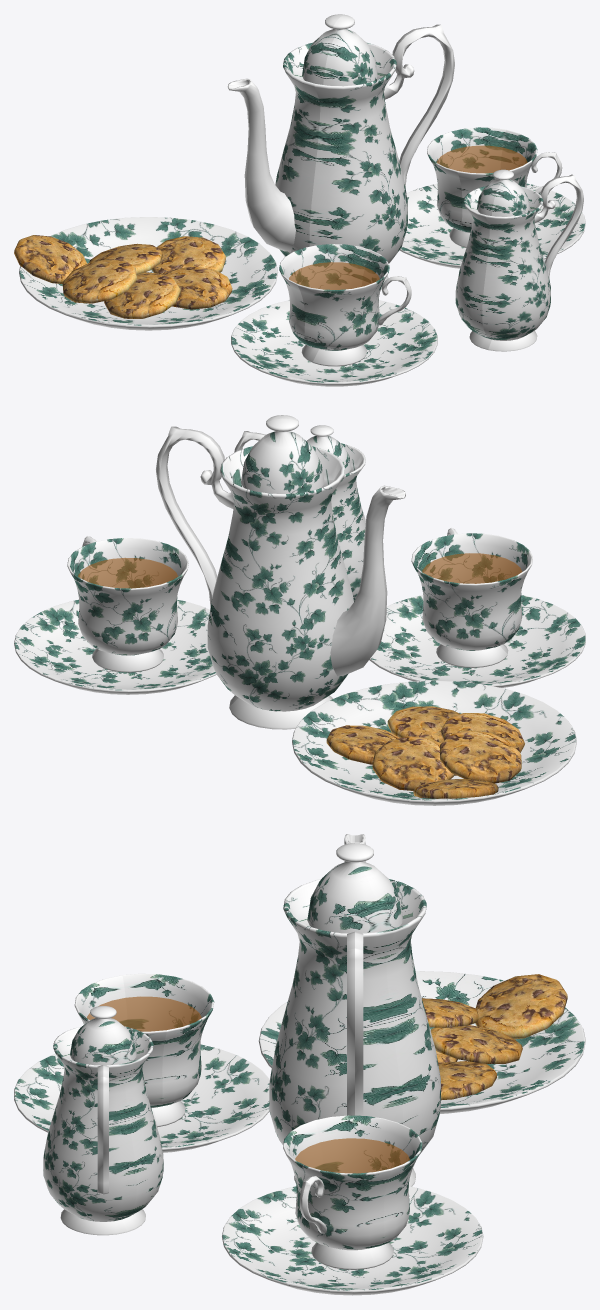
Rendered from tea_set.obj.
3 views of the same model, one above another, from view 1: azimuth 30°, elevation 25°; view 2: azimuth 150°, elevation 25°; view 3: azimuth 270°, elevation 25° (orthographic). The views are drawn at different scales.
Parts seen in each view (by area): view 1: Mesh48 Component_6_1 Component_9_1 tea_pot_06_1 tea_set_06_1 Mod, Mesh101 Group7 tea_cookie_06_1 tea_set_06_1 Model, Mesh3 Group3 tea_cup_06_1 tea_set_06_1 Model, Mesh97 Component_6_3 Component_9_2 tea_creamer_06_1 tea_set_06_1, Mesh41 Component_5_1 Component_8_1 tea_cup_06_1 tea_set_06_1 Mod, Mesh50 Component_6_2 Component_9_1 tea_pot_06_1 tea_set_06_1 Mod, Mesh54 Group6 tea_cup_06_2 tea_set_06_1 Model, Mesh93 Component_5_4 Component_8_2 tea_cup_06_2 tea_set_06_1 Mod, Mesh44 Component_7_1 tea_pot_06_1 tea_set_06_1 Model, Mesh42 Component_5_2 Component_8_1 tea_cup_06_1 tea_set_06_1 Mod, Mesh99 Component_6_4 Component_9_2 tea_creamer_06_1 tea_set_06_1, Mesh49 Component_1_1 Component_9_1 tea_pot_06_1 tea_set_06_1 Mod (+18 smaller); view 2: Mesh50 Component_6_2 Component_9_1 tea_pot_06_1 tea_set_06_1 Mod, Mesh101 Group7 tea_cookie_06_1 tea_set_06_1 Model, Mesh3 Group3 tea_cup_06_1 tea_set_06_1 Model, Mesh54 Group6 tea_cup_06_2 tea_set_06_1 Model, Mesh93 Component_5_4 Component_8_2 tea_cup_06_2 tea_set_06_1 Mod, Mesh42 Component_5_2 Component_8_1 tea_cup_06_1 tea_set_06_1 Mod, Mesh46 Component_7_2 tea_pot_06_1 tea_set_06_1 Model, Mesh41 Component_5_1 Component_8_1 tea_cup_06_1 tea_set_06_1 Mod, Mesh92 Component_5_3 Component_8_2 tea_cup_06_2 tea_set_06_1 Mod, Mesh51 Component_1_2 Component_9_1 tea_pot_06_1 tea_set_06_1 Mod, Mesh142 Component_14_5 tea_cookie_06_1 tea_set_06_1 Model, Mesh139 Component_14_2 tea_cookie_06_1 tea_set_06_1 Model (+13 smaller); view 3: Mesh48 Component_6_1 Component_9_1 tea_pot_06_1 tea_set_06_1 Mod, Mesh54 Group6 tea_cup_06_2 tea_set_06_1 Model, Mesh97 Component_6_3 Component_9_2 tea_creamer_06_1 tea_set_06_1, Mesh3 Group3 tea_cup_06_1 tea_set_06_1 Model, Mesh92 Component_5_3 Component_8_2 tea_cup_06_2 tea_set_06_1 Mod, Mesh50 Component_6_2 Component_9_1 tea_pot_06_1 tea_set_06_1 Mod, Mesh101 Group7 tea_cookie_06_1 tea_set_06_1 Model, Mesh42 Component_5_2 Component_8_1 tea_cup_06_1 tea_set_06_1 Mod, Mesh93 Component_5_4 Component_8_2 tea_cup_06_2 tea_set_06_1 Mod, Mesh143 Component_14_6 tea_cookie_06_1 tea_set_06_1 Model, Mesh49 Component_1_1 Component_9_1 tea_pot_06_1 tea_set_06_1 Mod, Mesh99 Component_6_4 Component_9_2 tea_creamer_06_1 tea_set_06_1 (+15 smaller).
Boxes of the visible parts, bbox=[...] form: Mesh48 Component_6_1 Component_9_1 tea_pot_06_1 tea_set_06_1 Mod: bbox=[309, 43, 407, 289]; Mesh101 Group7 tea_cookie_06_1 tea_set_06_1 Model: bbox=[19, 217, 277, 325]; Mesh3 Group3 tea_cup_06_1 tea_set_06_1 Model: bbox=[231, 300, 437, 382]; Mesh97 Component_6_3 Component_9_2 tea_creamer_06_1 tea_set_06_1: bbox=[482, 186, 550, 351]; Mesh41 Component_5_1 Component_8_1 tea_cup_06_1 tea_set_06_1 Mod: bbox=[298, 250, 389, 366]; Mesh50 Component_6_2 Component_9_1 tea_pot_06_1 tea_set_06_1 Mod: bbox=[275, 42, 320, 256]; Mesh54 Group6 tea_cup_06_2 tea_set_06_1 Model: bbox=[400, 183, 585, 265]; Mesh93 Component_5_4 Component_8_2 tea_cup_06_2 tea_set_06_1 Mod: bbox=[427, 127, 505, 247]; Mesh44 Component_7_1 tea_pot_06_1 tea_set_06_1 Model: bbox=[229, 79, 295, 251]; Mesh42 Component_5_2 Component_8_1 tea_cup_06_1 tea_set_06_1 Mod: bbox=[279, 244, 369, 362]; Mesh99 Component_6_4 Component_9_2 tea_creamer_06_1 tea_set_06_1: bbox=[455, 186, 491, 349]; Mesh49 Component_1_1 Component_9_1 tea_pot_06_1 tea_set_06_1 Mod: bbox=[323, 15, 377, 86]; Mesh50 Component_6_2 Component_9_1 tea_pot_06_1 tea_set_06_1 Mod: bbox=[207, 467, 353, 729]; Mesh101 Group7 tea_cookie_06_1 tea_set_06_1 Model: bbox=[292, 680, 576, 800]; Mesh3 Group3 tea_cup_06_1 tea_set_06_1 Model: bbox=[370, 595, 585, 685]; Mesh54 Group6 tea_cup_06_2 tea_set_06_1 Model: bbox=[14, 599, 215, 690]; Mesh93 Component_5_4 Component_8_2 tea_cup_06_2 tea_set_06_1 Mod: bbox=[67, 561, 188, 672]; Mesh42 Component_5_2 Component_8_1 tea_cup_06_1 tea_set_06_1 Mod: bbox=[411, 553, 531, 667]; Mesh46 Component_7_2 tea_pot_06_1 tea_set_06_1 Model: bbox=[330, 487, 404, 676]; Mesh41 Component_5_1 Component_8_1 tea_cup_06_1 tea_set_06_1 Mod: bbox=[413, 533, 532, 653]; Mesh92 Component_5_3 Component_8_2 tea_cup_06_2 tea_set_06_1 Mod: bbox=[67, 538, 188, 656]; Mesh51 Component_1_2 Component_9_1 tea_pot_06_1 tea_set_06_1 Mod: bbox=[241, 418, 324, 493]; Mesh142 Component_14_5 tea_cookie_06_1 tea_set_06_1 Model: bbox=[440, 730, 521, 783]; Mesh139 Component_14_2 tea_cookie_06_1 tea_set_06_1 Model: bbox=[372, 736, 454, 790]; Mesh48 Component_6_1 Component_9_1 tea_pot_06_1 tea_set_06_1 Mod: bbox=[269, 880, 402, 1182]; Mesh54 Group6 tea_cup_06_2 tea_set_06_1 Model: bbox=[222, 1186, 482, 1290]; Mesh97 Component_6_3 Component_9_2 tea_creamer_06_1 tea_set_06_1: bbox=[43, 1028, 136, 1235]; Mesh3 Group3 tea_cup_06_1 tea_set_06_1 Model: bbox=[14, 1044, 269, 1148]; Mesh92 Component_5_3 Component_8_2 tea_cup_06_2 tea_set_06_1 Mod: bbox=[283, 1120, 391, 1269]; Mesh50 Component_6_2 Component_9_1 tea_pot_06_1 tea_set_06_1 Mod: bbox=[317, 879, 440, 1186]; Mesh101 Group7 tea_cookie_06_1 tea_set_06_1 Model: bbox=[259, 971, 584, 1107]; Mesh42 Component_5_2 Component_8_1 tea_cup_06_1 tea_set_06_1 Mod: bbox=[122, 973, 214, 1126]; Mesh93 Component_5_4 Component_8_2 tea_cup_06_2 tea_set_06_1 Mod: bbox=[315, 1115, 422, 1266]; Mesh143 Component_14_6 tea_cookie_06_1 tea_set_06_1 Model: bbox=[475, 974, 567, 1039]; Mesh49 Component_1_1 Component_9_1 tea_pot_06_1 tea_set_06_1 Mod: bbox=[307, 844, 381, 933]; Mesh99 Component_6_4 Component_9_2 tea_creamer_06_1 tea_set_06_1: bbox=[76, 1026, 163, 1232].
Size of the model in its own units: 17.82 by 8.79 by 13.76.
5 materials, 2 textured.
